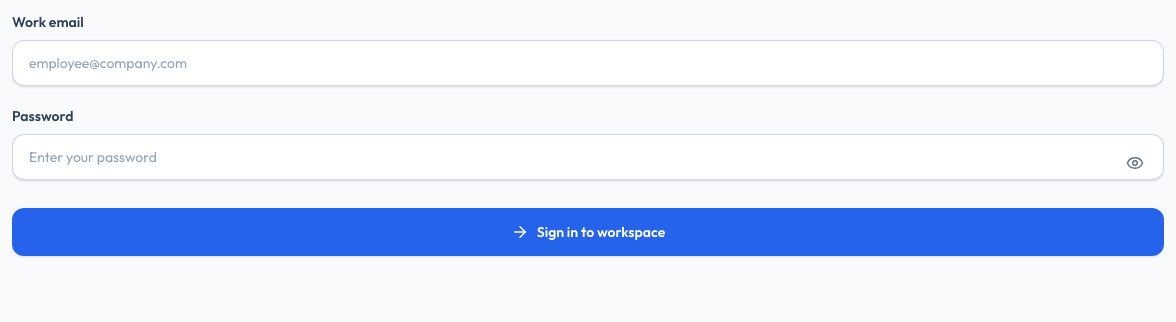
LoginForm › rejects empty login fields
Click the button "Sign in to workspace" at (588, 232), box [12,208,1164,256]
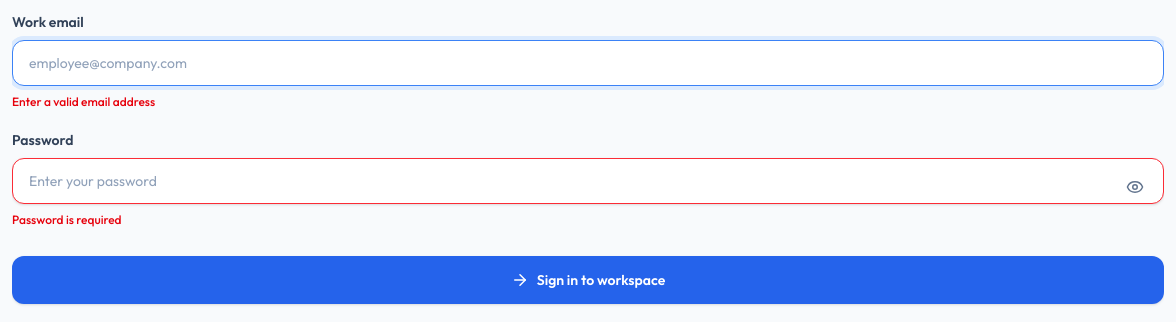
Now the text "Enter a valid email address" is shown, box [12,94,155,109]
Now the text "Password is required" is shown, box [12,212,122,227]
